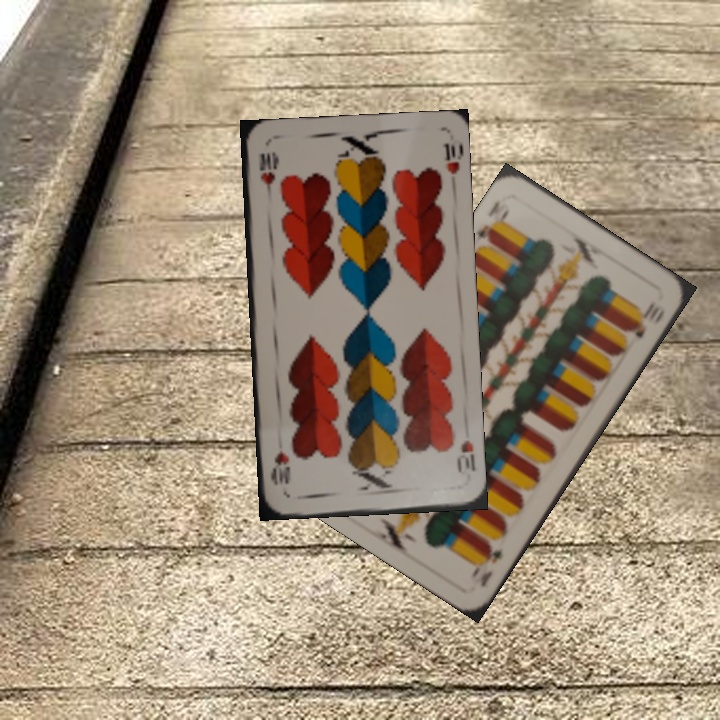E10: (472, 196, 513, 246), (467, 541, 506, 590)
H10: (255, 148, 277, 203), (453, 436, 477, 475)
